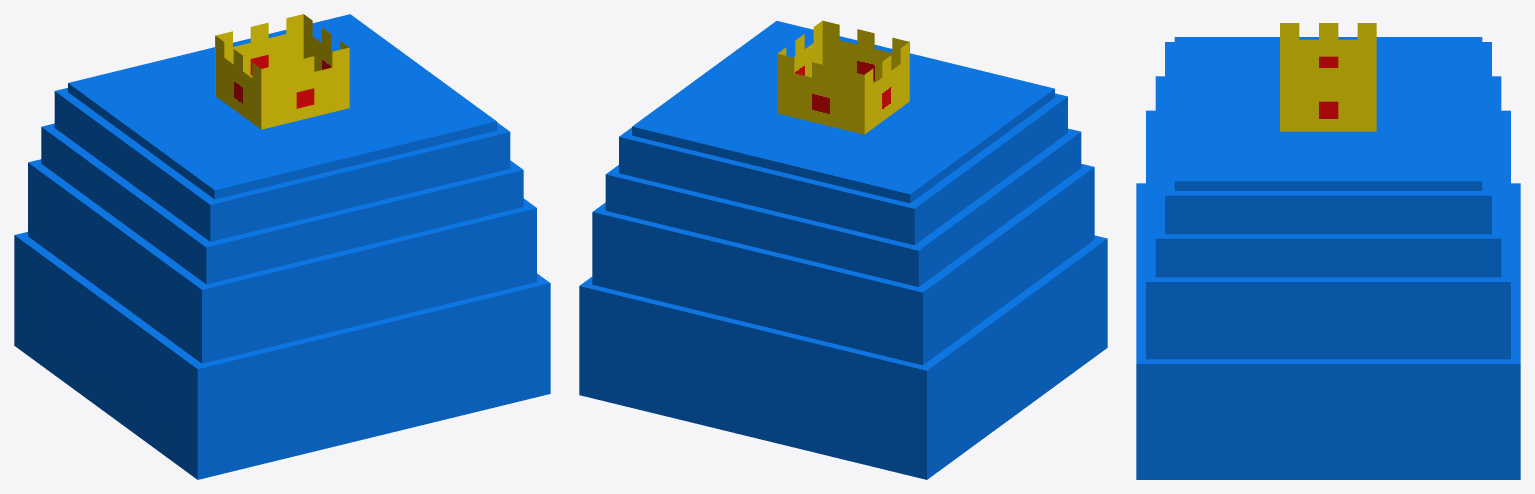
Rendered from terraria.glb.
3 renders of one model, left to right at view 1: azimuth 30°, elevation 25°; view 2: azimuth 150°, elevation 25°; view 3: azimuth 270°, elevation 25°, orthographic. The views are drawn at different scales.
Parts seen in each view (by area): view 1: terraria; view 2: terraria; view 3: terraria.
Part boxes in pixels (x1,y1,x2,y2): terraria: (14,14,550,479); terraria: (579,20,1107,479); terraria: (1136,23,1520,479).
Size of the model in its own units: 9.42 by 8.38 by 8.48.
1 material, 1 textured.
